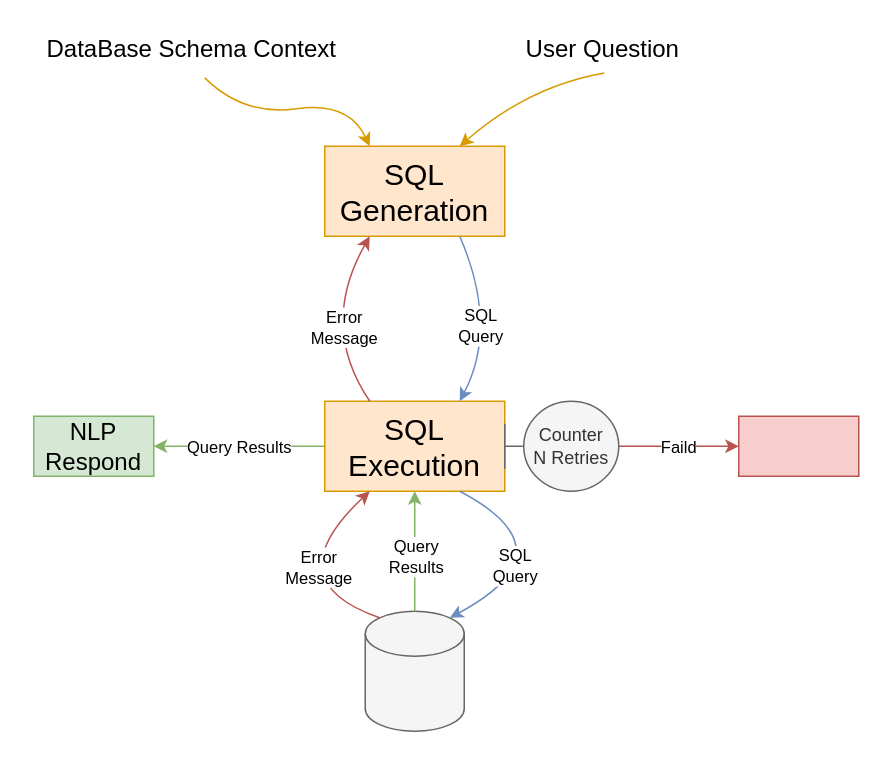
The diagram is 885 pixels wide and 758 high, and some of its shapes have lost their labels. The shapes that lost their labels are listed below. From the top down, each one's centre as x and y in pixels, then its label:
the point at 798,445: __END__
the point at 414,670: DataBase
